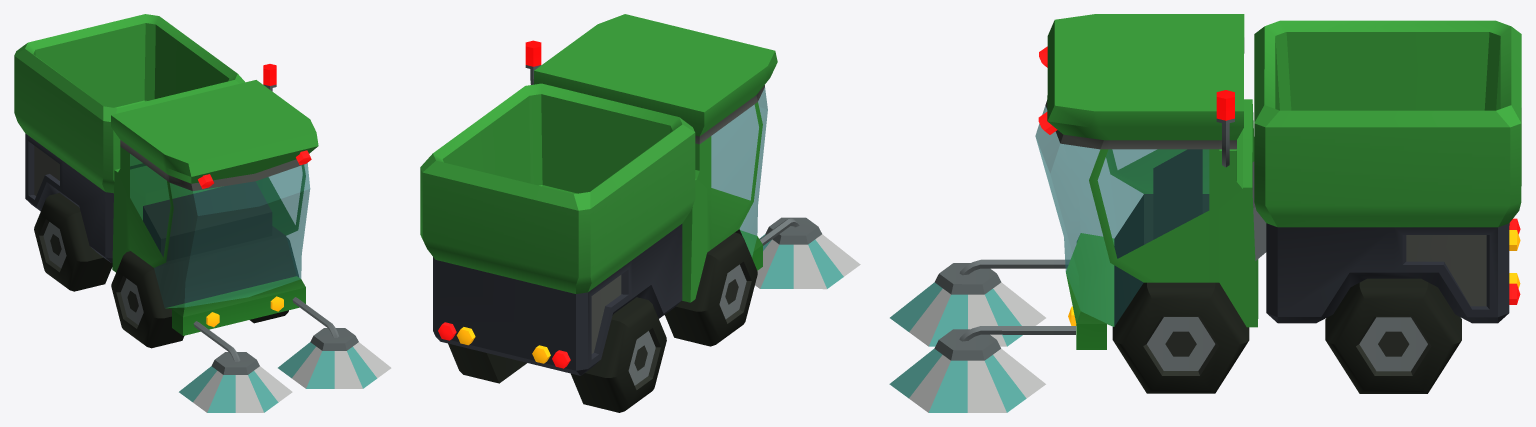
The model's file is Street_Cleaner.glb.
3 views of the same model, side by side, from view 1: azimuth 30°, elevation 25°; view 2: azimuth 150°, elevation 25°; view 3: azimuth 270°, elevation 25° (orthographic). The views are drawn at different scales.
Visible parts, largest first — view 1: streetCleaner; view 2: streetCleaner; view 3: streetCleaner.
Boxes of the visible parts, x1,y1,x2,y2 form: streetCleaner: (14,14,391,412); streetCleaner: (420,14,860,412); streetCleaner: (889,14,1521,412).
Size of what is drawn, in the model's own units: 3.32 by 3.9 by 7.16.
Materials: 2 (2 with a texture image).
